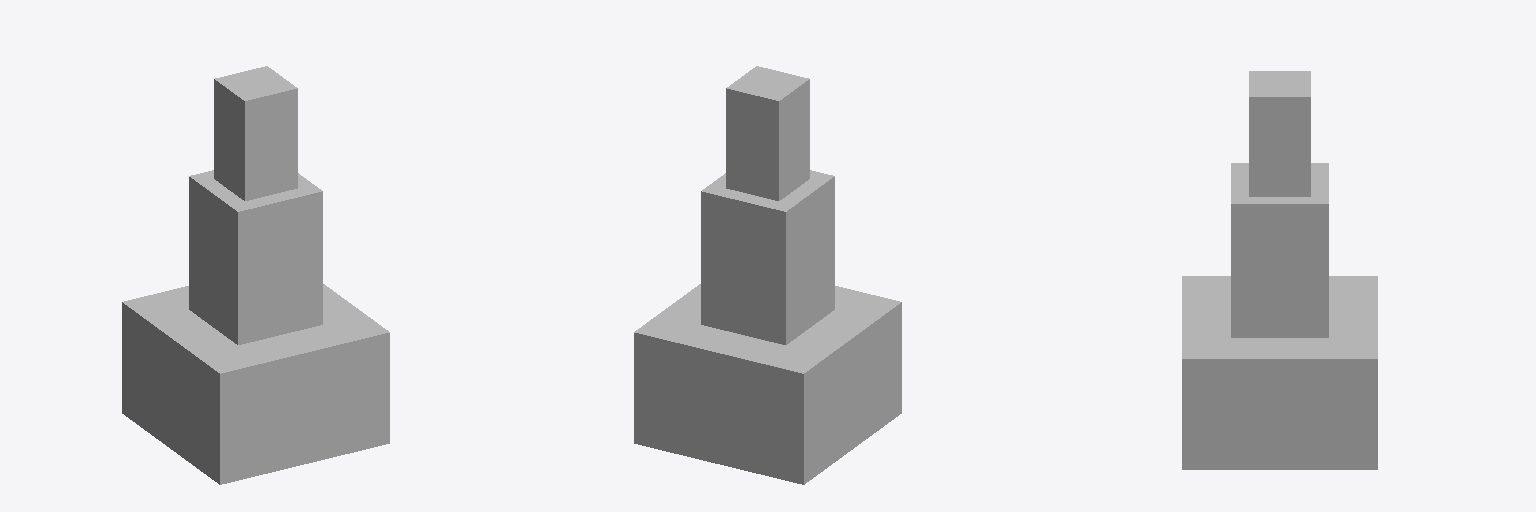
File: Model_Building_v2.obj
The picture shows the model from 3 angles: view 1: azimuth 30°, elevation 25°; view 2: azimuth 150°, elevation 25°; view 3: azimuth 270°, elevation 25°; orthographic projection.
Parts seen in each view (by area): view 1: cube; view 2: cube; view 3: cube.
Boxes of the visible parts, <box> form: cube: <box>122,66,389,484</box>; cube: <box>634,66,901,484</box>; cube: <box>1182,71,1377,469</box>.
Bounding box in the file's own units: 1 × 1.94 × 1.